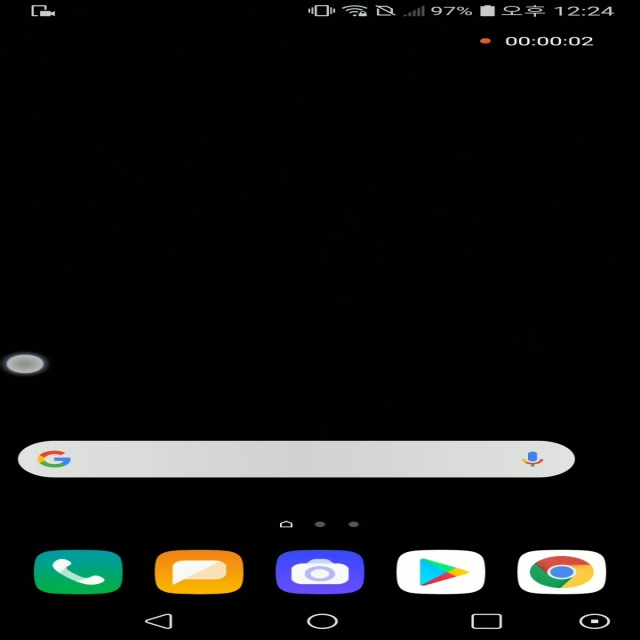Cursor: (2, 353, 47, 376)
